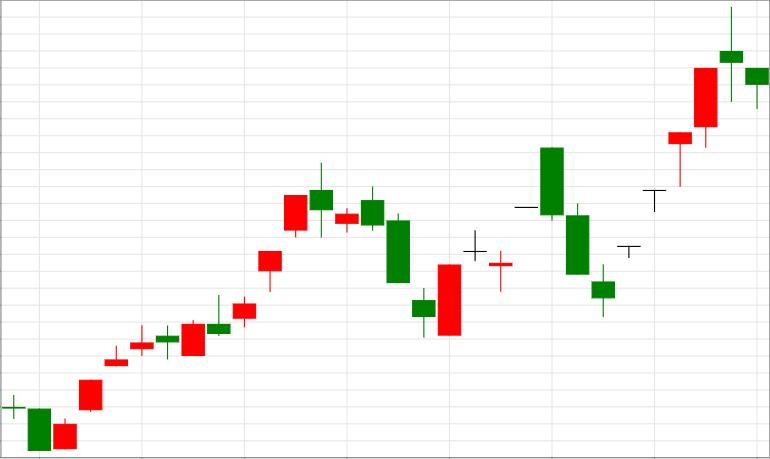bullish_engulfing_rise: (310, 163, 461, 337)
evening_star_fall: (592, 7, 769, 317)
